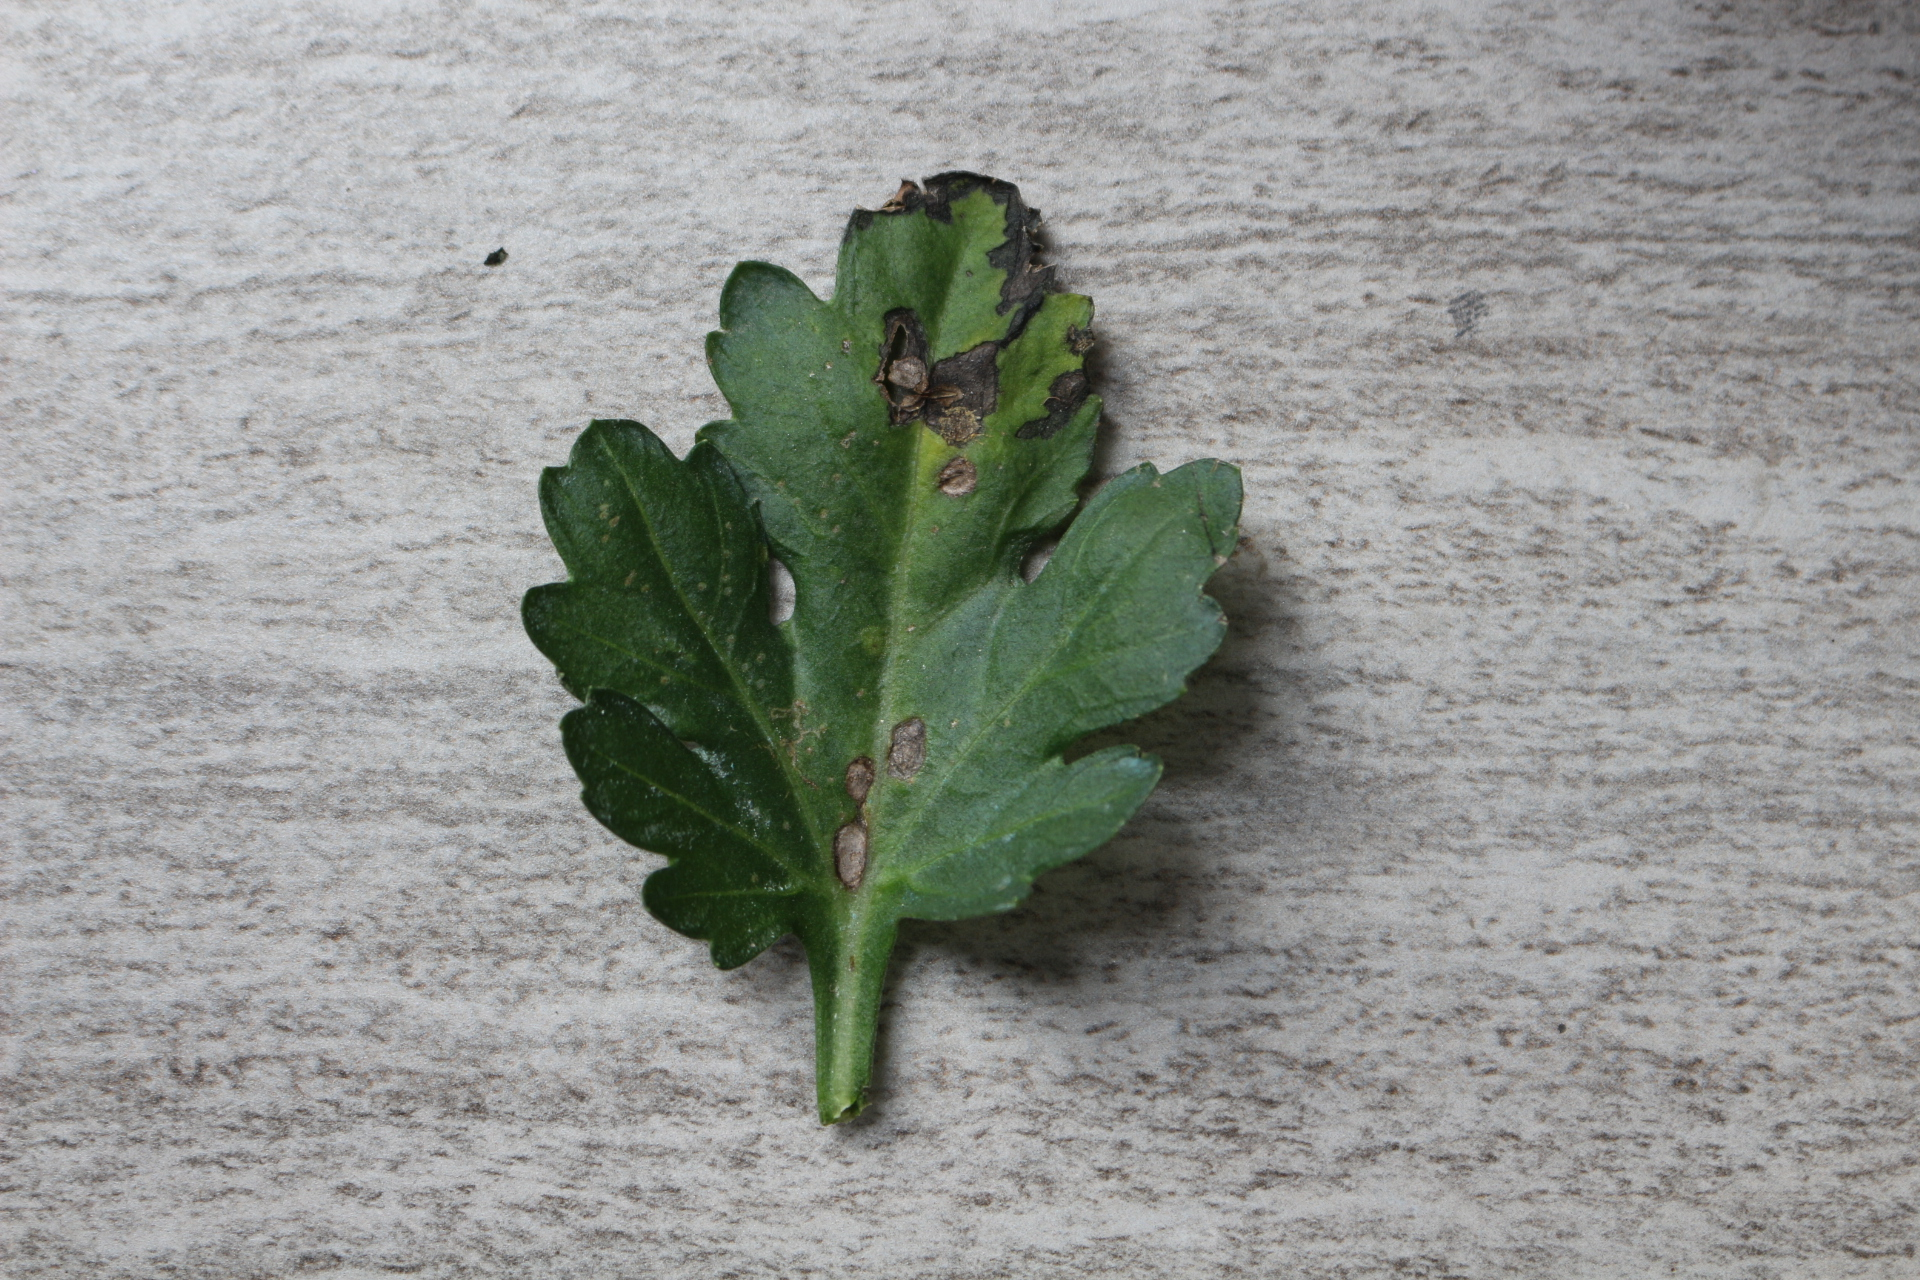namden: (870, 317, 1006, 444), (884, 713, 937, 774), (834, 821, 879, 891), (841, 754, 880, 814), (930, 461, 980, 504)
